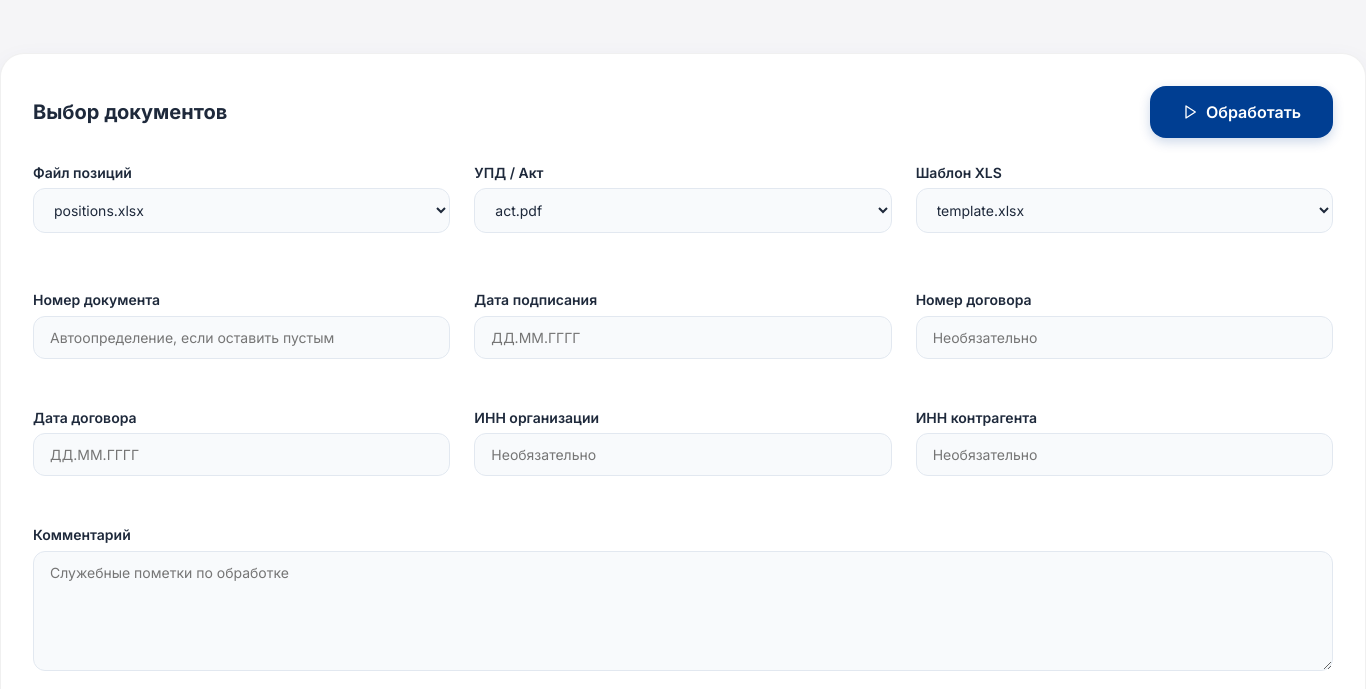
ProcessingPage › renders results after successful process
The width and height of the screenshot is (1366, 689).
Click the button "Обработать". click: (1242, 112)
box: [1150,86,1333,138]
(page scrolled)
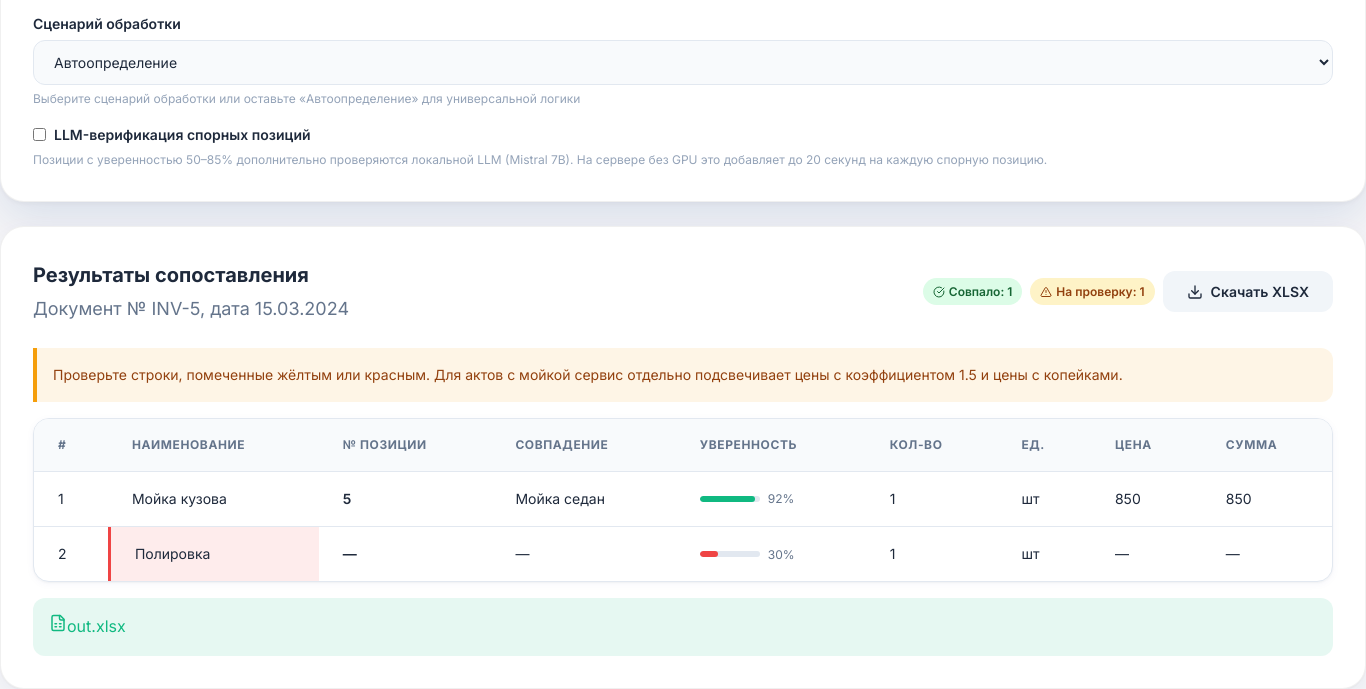
Result: the heading "Результаты сопоставления" is shown at [33,259,349,291]
Result: the text "Совпало: 1" is shown at [923,278,1022,305]
Result: the text "На проверку: 1" is shown at [1030,278,1155,305]
